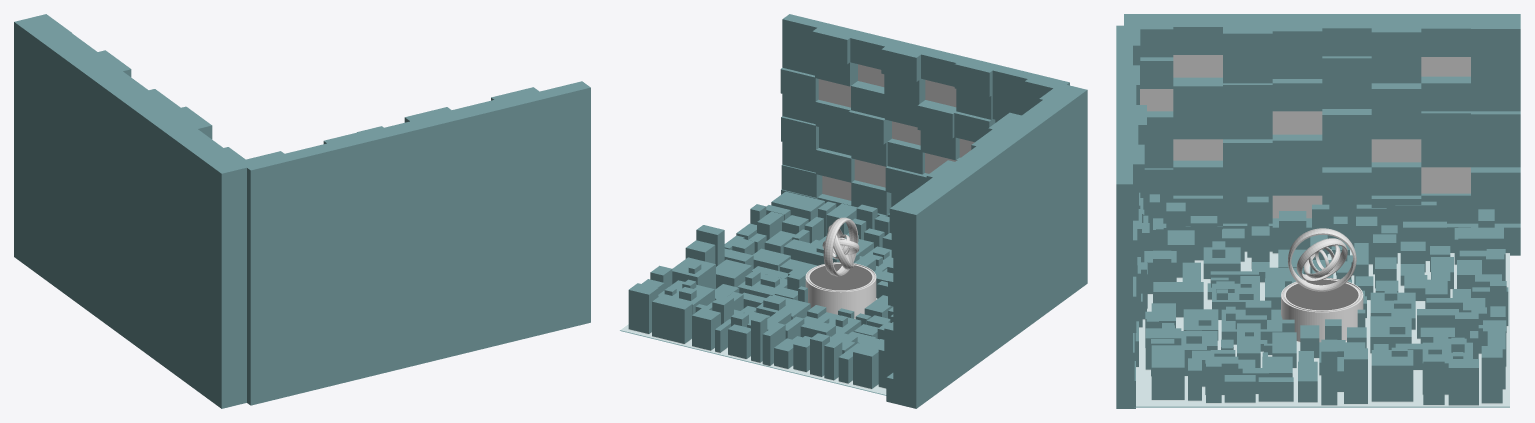
File: rings.fbx
The picture shows the model from 3 angles, left to right: view 1: azimuth 30°, elevation 25°; view 2: azimuth 150°, elevation 25°; view 3: azimuth 270°, elevation 25°; orthographic projection. The views are drawn at different scales.
Visible parts, largest first — view 1: Cube, Cube.001; view 2: Cube.001, Cube, FloorCubes, Cylinder, Floor, Ring_5; view 3: Cube.001, FloorCubes, Cube, Floor, Cylinder, Ring_5, Ring_5.003, Ring_5.002.
Part boxes in pixels (x1,y1,x2,y2): Cube: [239, 81, 590, 405]; Cube.001: [14, 14, 252, 408]; Cube.001: [884, 83, 1087, 408]; Cube: [780, 14, 1069, 216]; FloorCubes: [620, 191, 893, 395]; Cylinder: [805, 262, 876, 318]; Floor: [620, 298, 886, 394]; Ring_5: [823, 217, 858, 276]; Cube.001: [1124, 14, 1520, 255]; FloorCubes: [1134, 194, 1509, 407]; Cube: [1116, 25, 1146, 408]; Floor: [1136, 249, 1509, 406]; Cylinder: [1281, 278, 1363, 342]; Ring_5: [1288, 228, 1356, 291]; Ring_5.003: [1296, 238, 1347, 281]; Ring_5.002: [1304, 245, 1340, 278].
Bounding box in the file's own units: 24.4 × 24.45 × 15.
